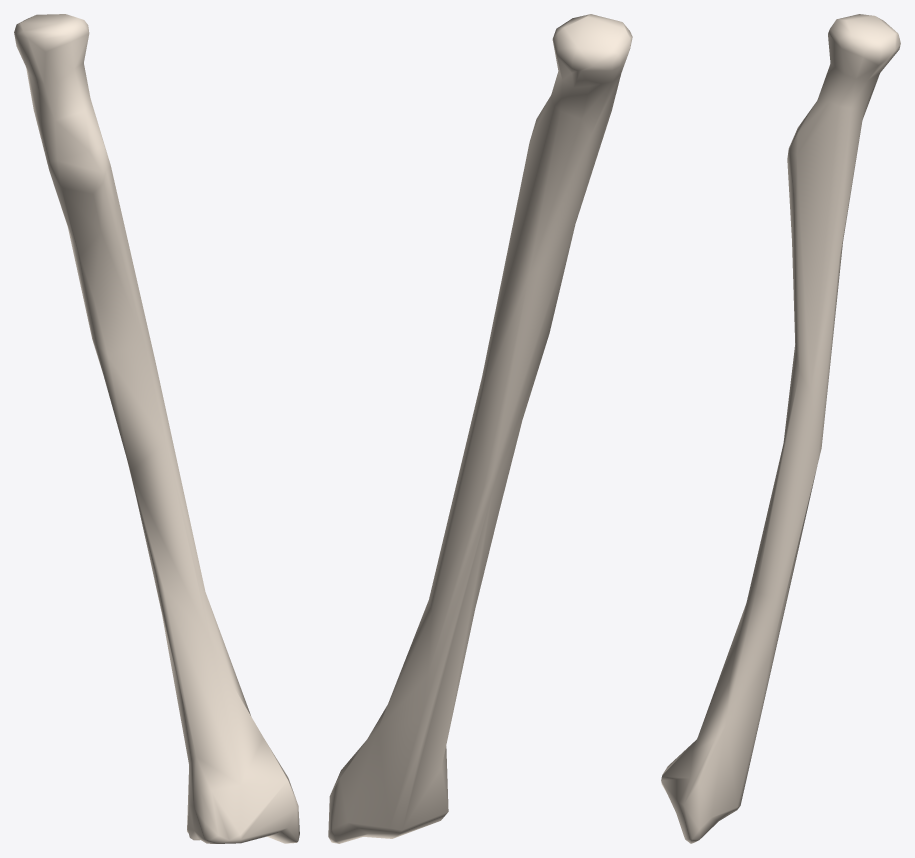
Rendered from left_radius.glb.
The picture shows the model from 3 angles, left to right: view 1: azimuth 30°, elevation 25°; view 2: azimuth 210°, elevation 25°; view 3: azimuth 270°, elevation 25°; orthographic projection. The views are drawn at different scales.
Visible parts, largest first — view 1: Radius.r; view 2: Radius.r; view 3: Radius.r.
Boxes of the visible parts, box(x1,y1,x2,y2) form: Radius.r: box(14, 14, 299, 843); Radius.r: box(328, 14, 632, 843); Radius.r: box(661, 14, 900, 843).
Size of the model in its own units: 0.0599 by 0.2395 by 0.0692.
